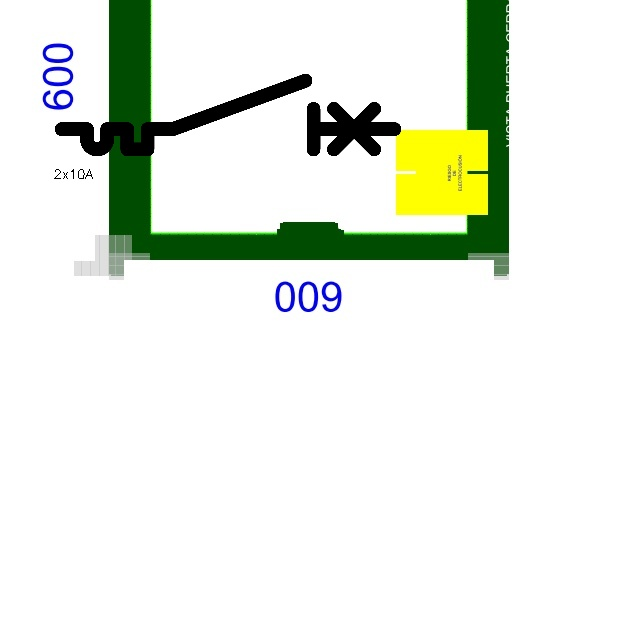interruptor_termomagnetico: (53, 72, 403, 158)
